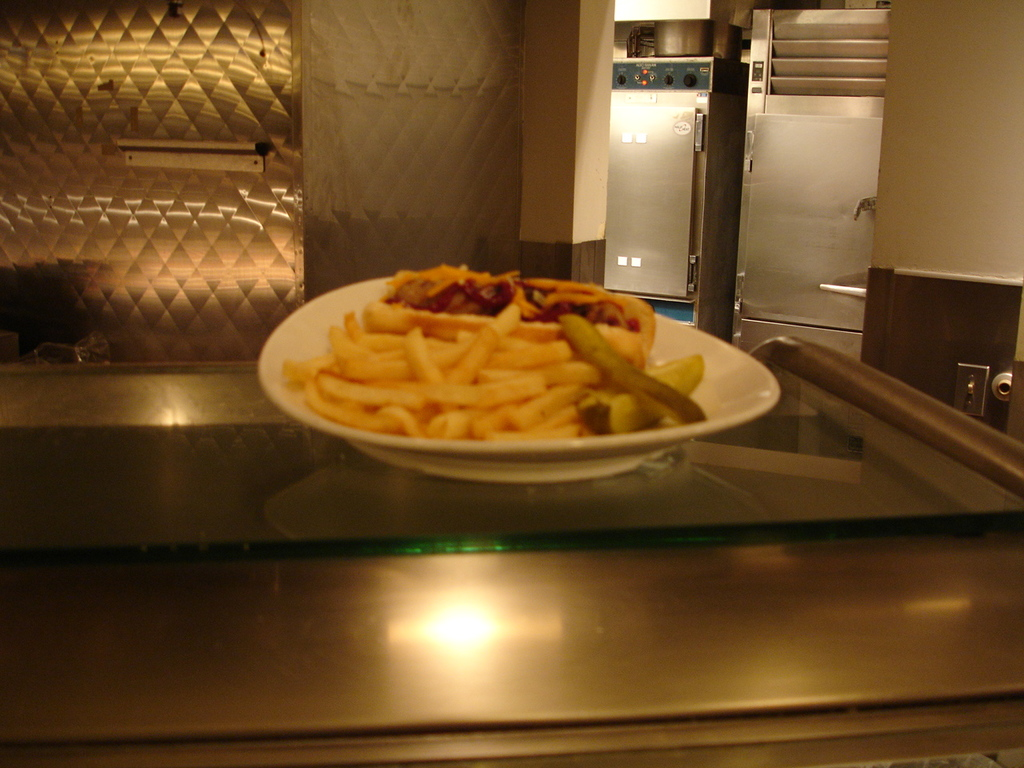French fries: (275, 300, 712, 453)
